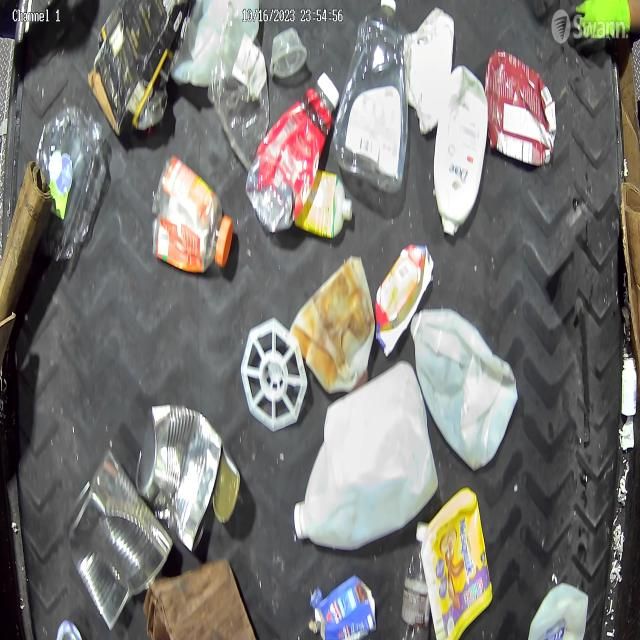can: (67, 446, 173, 630), (135, 404, 241, 554)
milk_jug: (296, 360, 439, 550), (413, 306, 516, 468), (525, 581, 590, 640)
non_white_jug: (336, 0, 410, 192), (421, 487, 494, 640), (433, 65, 489, 236), (486, 50, 557, 169), (312, 574, 378, 638)
plastic_bottle: (398, 520, 430, 640)
